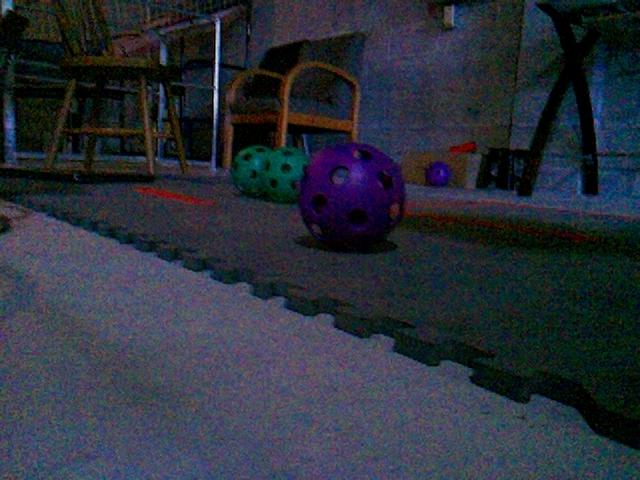Green: (261, 144, 309, 202), (234, 145, 270, 195)
Purple: (296, 143, 405, 249), (425, 161, 451, 187)
